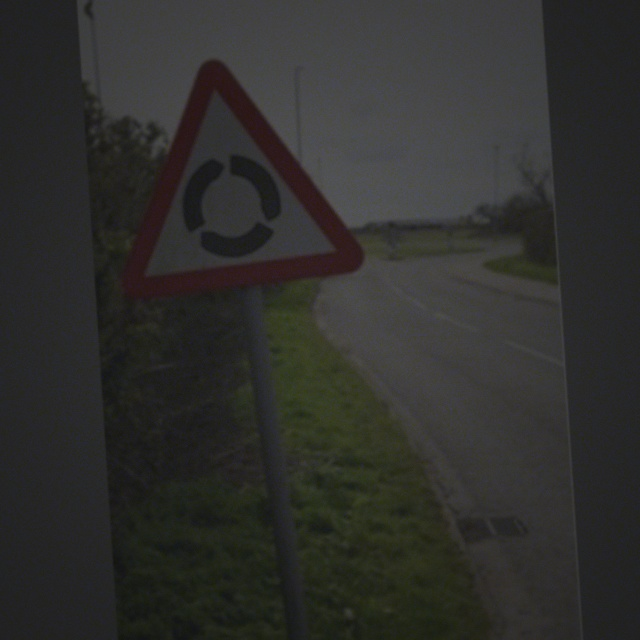Round_About: (120, 48, 361, 289)
